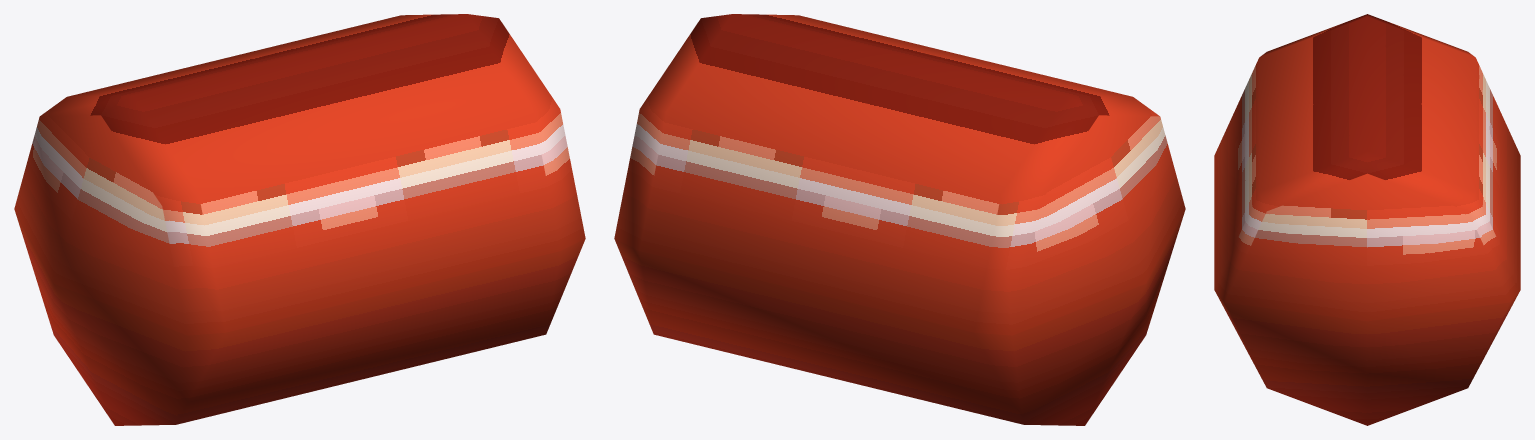
Rendered from sobj_buoy.dae.
3 views of the same model, side by side, from view 1: azimuth 30°, elevation 25°; view 2: azimuth 150°, elevation 25°; view 3: azimuth 270°, elevation 25° (orthographic). The views are drawn at different scales.
Parts seen in each view (by area): view 1: sobj_buoy; view 2: sobj_buoy; view 3: sobj_buoy.
Part boxes in pixels (x1,y1,x2,y2): sobj_buoy: (14, 14, 585, 425); sobj_buoy: (614, 14, 1185, 425); sobj_buoy: (1214, 14, 1520, 425).
Bounding box in the file's own units: 16.36 × 10.36 × 10.73.
1 material, 1 textured.
